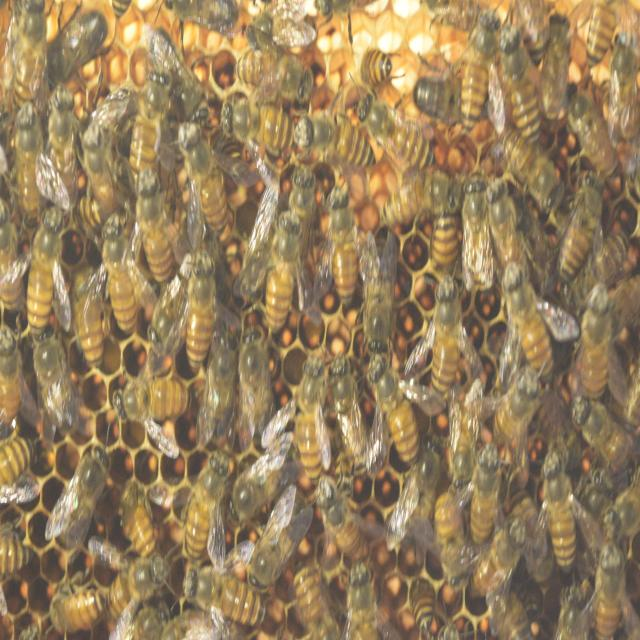honeybee: (420, 277, 493, 430), (136, 174, 198, 322), (140, 25, 229, 128), (572, 273, 632, 418), (366, 352, 427, 486), (392, 447, 452, 582), (559, 84, 630, 197), (290, 106, 384, 188), (242, 488, 310, 601), (148, 264, 224, 363), (122, 68, 179, 194), (253, 212, 305, 350), (310, 476, 380, 576), (456, 0, 508, 134), (492, 279, 560, 380), (46, 5, 112, 109), (279, 168, 328, 308), (165, 448, 229, 554), (231, 37, 322, 111), (324, 175, 376, 302), (187, 551, 270, 630), (512, 479, 566, 599), (436, 388, 489, 508), (176, 137, 236, 243), (276, 358, 326, 484), (20, 328, 74, 444), (112, 367, 190, 446), (230, 438, 307, 518), (326, 353, 374, 476), (51, 448, 100, 568), (226, 97, 302, 174), (8, 0, 56, 121), (502, 25, 544, 163), (51, 565, 128, 640), (102, 224, 150, 343), (583, 543, 640, 640), (14, 103, 59, 224), (544, 446, 586, 575), (232, 332, 278, 449), (44, 91, 85, 222), (494, 362, 544, 469), (96, 545, 174, 613), (202, 326, 241, 459), (484, 184, 532, 290), (378, 162, 456, 227), (14, 221, 60, 331), (470, 515, 535, 591), (241, 0, 313, 68), (176, 255, 220, 365), (74, 264, 116, 368), (507, 143, 566, 217), (362, 104, 434, 164), (366, 240, 402, 360), (558, 172, 596, 285), (80, 128, 120, 234), (0, 191, 31, 326), (292, 575, 356, 640), (464, 446, 505, 544), (436, 475, 469, 593), (542, 15, 569, 159), (461, 180, 492, 304), (339, 559, 385, 640), (586, 0, 626, 89), (153, 0, 232, 45), (407, 67, 465, 126), (120, 489, 164, 566), (0, 434, 47, 504), (546, 581, 601, 640), (516, 0, 563, 68), (426, 203, 465, 284), (580, 403, 640, 455), (601, 464, 640, 541), (612, 28, 638, 139), (598, 216, 631, 300), (0, 328, 28, 426), (580, 465, 613, 547), (488, 586, 533, 640), (0, 515, 35, 584), (358, 42, 394, 106), (131, 596, 182, 640), (423, 0, 476, 35), (345, 84, 374, 139), (410, 583, 431, 636), (431, 615, 466, 640)
